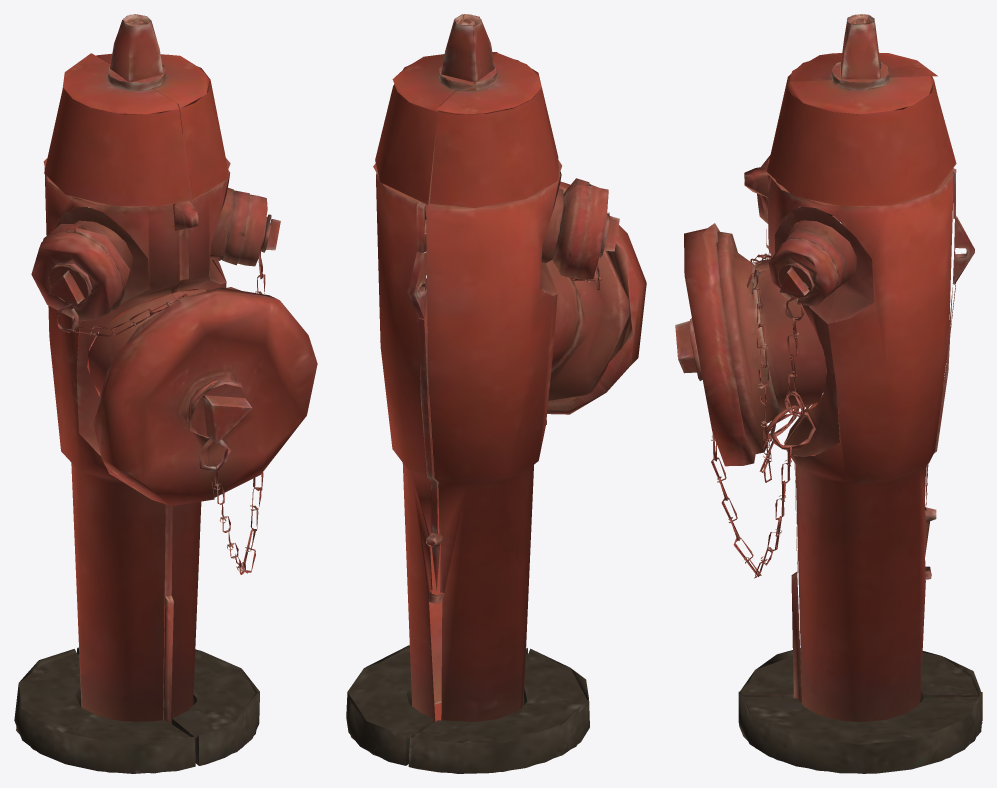
File: prop-hydrant-96cc68716ead.glb
The picture shows the model from 3 angles, left to right: view 1: azimuth 30°, elevation 25°; view 2: azimuth 150°, elevation 25°; view 3: azimuth 270°, elevation 25°; orthographic projection.
Parts seen in each view (by area): view 1: ph_street_fire_hydrant_part_0, ph_street_fire_hydrant_part_2, ph_street_fire_hydrant_part_6, ph_street_fire_hydrant_part_8, ph_street_fire_hydrant_part_4; view 2: ph_street_fire_hydrant_part_0, ph_street_fire_hydrant_part_2, ph_street_fire_hydrant_part_6; view 3: ph_street_fire_hydrant_part_0, ph_street_fire_hydrant_part_2, ph_street_fire_hydrant_part_8, ph_street_fire_hydrant_part_4.
Part boxes in pixels (x1,y1,x2,y2): ph_street_fire_hydrant_part_0: (14,14,259,773); ph_street_fire_hydrant_part_2: (93,287,317,505); ph_street_fire_hydrant_part_6: (31,232,122,320); ph_street_fire_hydrant_part_8: (56,217,267,574); ph_street_fire_hydrant_part_4: (237,194,280,266); ph_street_fire_hydrant_part_0: (346,14,629,773); ph_street_fire_hydrant_part_2: (540,181,646,414); ph_street_fire_hydrant_part_6: (574,184,619,279); ph_street_fire_hydrant_part_0: (716,14,982,773); ph_street_fire_hydrant_part_2: (675,223,755,466); ph_street_fire_hydrant_part_8: (711,251,815,578); ph_street_fire_hydrant_part_4: (768,238,838,306).
Size of the model in its own units: 0.2671 by 0.78 by 0.309.
1 material, 1 textured.
